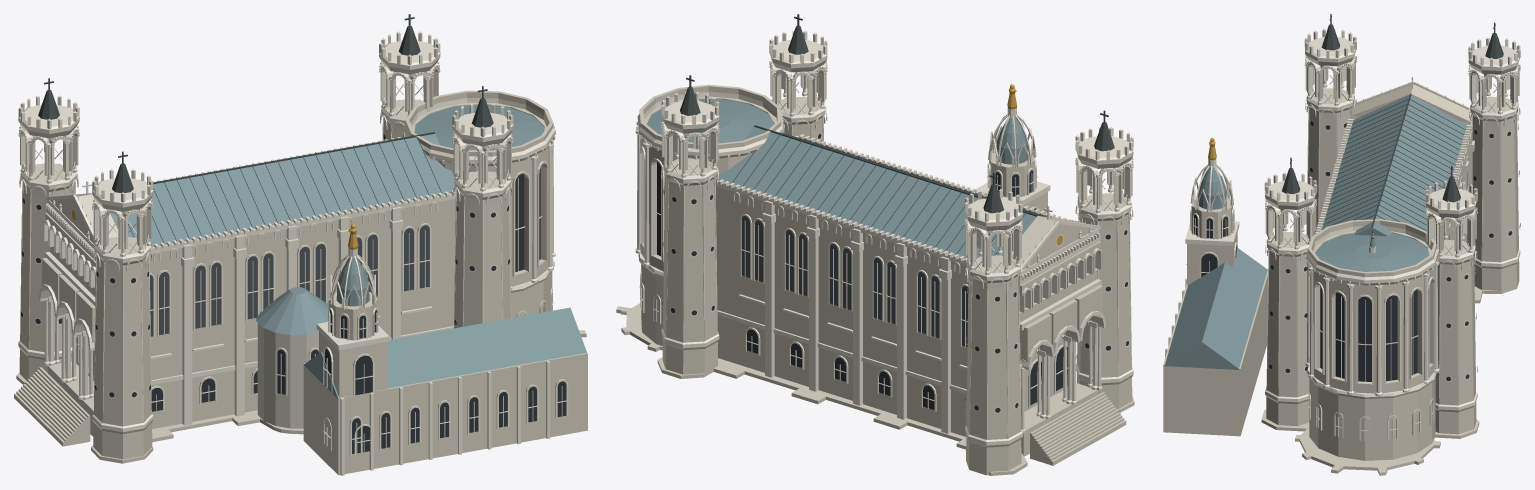
The model's file is basilique-de-fourviere-near.glb.
3 renders of one model, left to right at view 1: azimuth 30°, elevation 25°; view 2: azimuth 150°, elevation 25°; view 3: azimuth 270°, elevation 25°, orthographic. The views are drawn at different scales.
Visible parts, largest first — view 1: basilique-de-fourviere-0-stone, basilique-de-fourviere-0-trim, basilique-de-fourviere-0-roof, basilique-de-fourviere-0-glass, basilique-de-fourviere-0-glow, basilique-de-fourviere-0-metal; view 2: basilique-de-fourviere-0-stone, basilique-de-fourviere-0-trim, basilique-de-fourviere-0-roof, basilique-de-fourviere-0-glow, basilique-de-fourviere-0-metal, basilique-de-fourviere-0-glass; view 3: basilique-de-fourviere-0-stone, basilique-de-fourviere-0-trim, basilique-de-fourviere-0-roof, basilique-de-fourviere-0-glass, basilique-de-fourviere-0-metal.
Boxes of the visible parts, x1=… form: basilique-de-fourviere-0-stone: x1=14, y1=90, x2=587, y2=475; basilique-de-fourviere-0-trim: x1=18, y1=31, x2=568, y2=475; basilique-de-fourviere-0-roof: x1=108, y1=105, x2=586, y2=398; basilique-de-fourviere-0-glass: x1=21, y1=134, x2=566, y2=453; basilique-de-fourviere-0-glow: x1=150, y1=225, x2=429, y2=336; basilique-de-fourviere-0-metal: x1=38, y1=14, x2=493, y2=245; basilique-de-fourviere-0-stone: x1=616, y1=84, x2=1134, y2=475; basilique-de-fourviere-0-trim: x1=635, y1=30, x2=1133, y2=447; basilique-de-fourviere-0-roof: x1=647, y1=99, x2=1040, y2=258; basilique-de-fourviere-0-glow: x1=741, y1=216, x2=968, y2=346; basilique-de-fourviere-0-metal: x1=680, y1=14, x2=1114, y2=257; basilique-de-fourviere-0-glass: x1=641, y1=133, x2=1128, y2=412; basilique-de-fourviere-0-stone: x1=1163, y1=84, x2=1519, y2=475; basilique-de-fourviere-0-trim: x1=1165, y1=28, x2=1520, y2=441; basilique-de-fourviere-0-roof: x1=1164, y1=94, x2=1466, y2=369; basilique-de-fourviere-0-glass: x1=1194, y1=121, x2=1520, y2=437; basilique-de-fourviere-0-metal: x1=1282, y1=14, x2=1503, y2=234.
Size of the model in its own units: 86.25 by 48 by 59.64.
